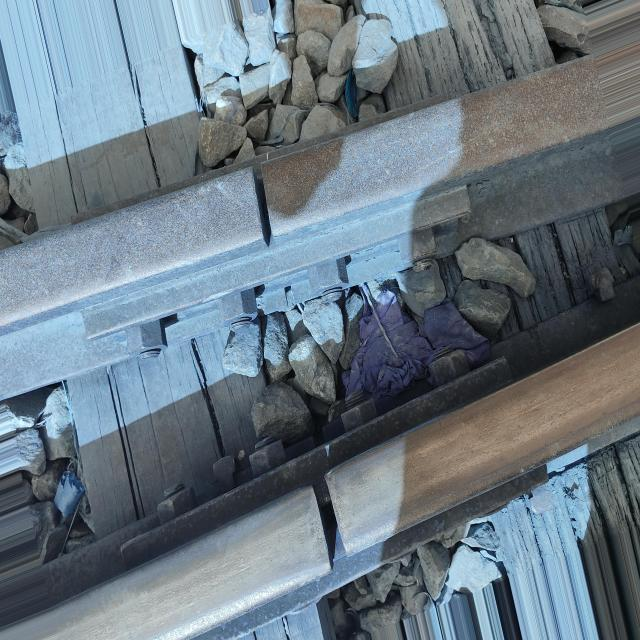Good Joint: (116, 347, 551, 640), (89, 189, 466, 369)
